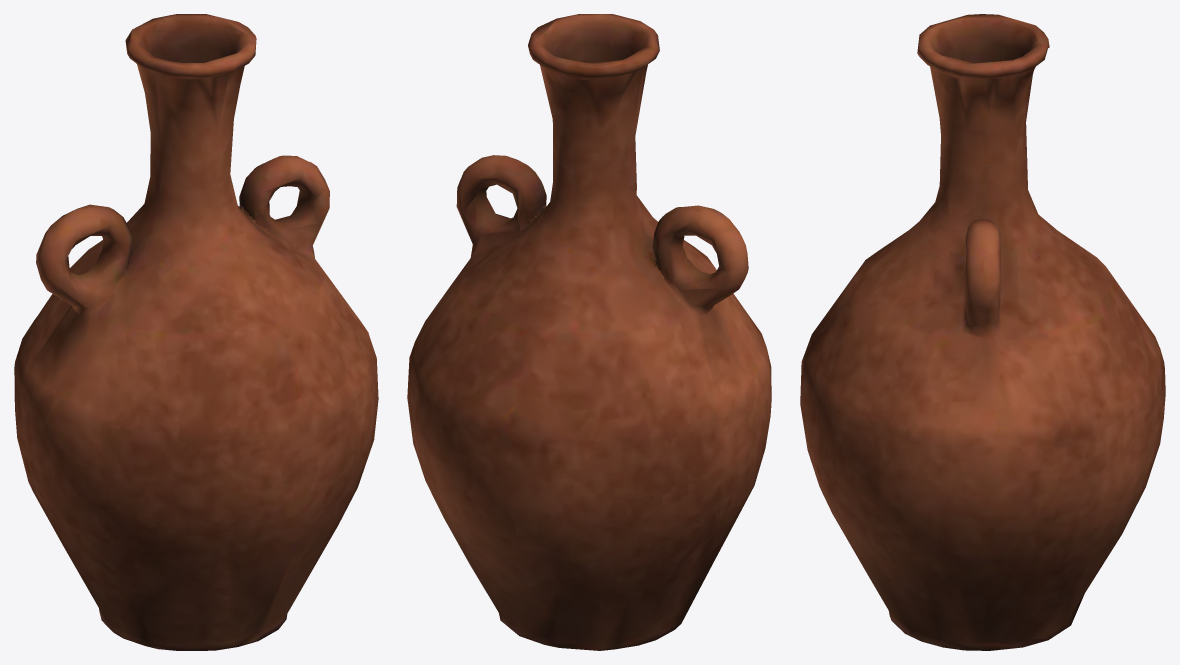
The model's file is plain-terracotta-amphora-v002.glb.
3 views of the same model, side by side, from view 1: azimuth 30°, elevation 25°; view 2: azimuth 150°, elevation 25°; view 3: azimuth 270°, elevation 25° (orthographic).
Parts seen in each view (by area): view 1: plain-terracotta-amphora; view 2: plain-terracotta-amphora; view 3: plain-terracotta-amphora.
Boxes of the visible parts, x1,y1,x2,y2 form: plain-terracotta-amphora: [14, 14, 378, 650]; plain-terracotta-amphora: [407, 14, 771, 650]; plain-terracotta-amphora: [800, 14, 1165, 650].
Size of the model in its own units: 0.624 by 1.08 by 0.6246.
1 material, 1 textured.
